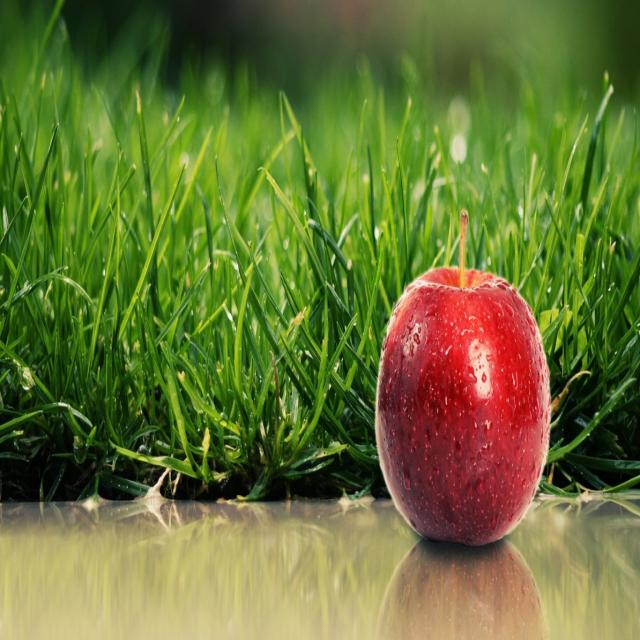Apple: (375, 265, 551, 551)
